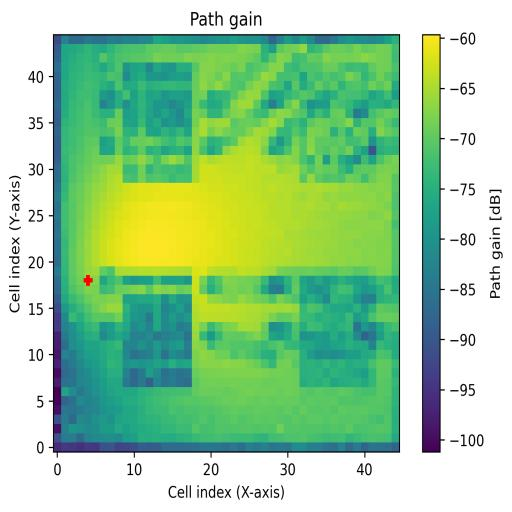Concrete: (300, 61, 377, 184)
Glass: (123, 62, 192, 182)
Metal: (300, 276, 376, 387)
Wood: (123, 277, 193, 387)
